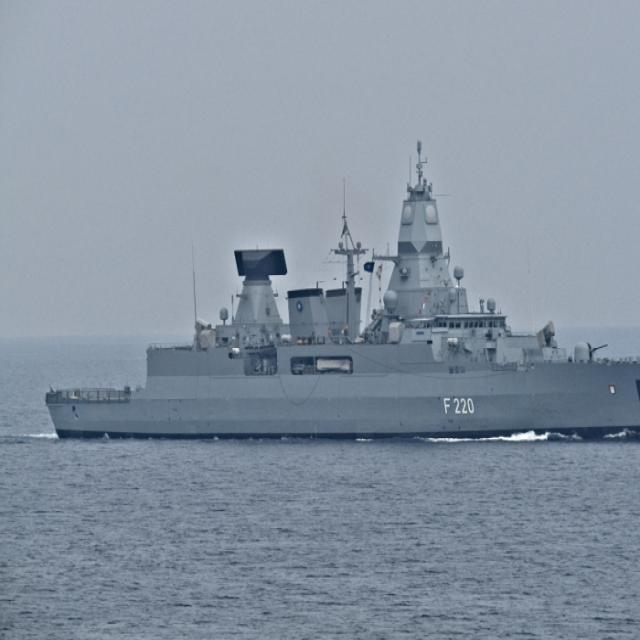Fragata: (45, 144, 640, 448)
